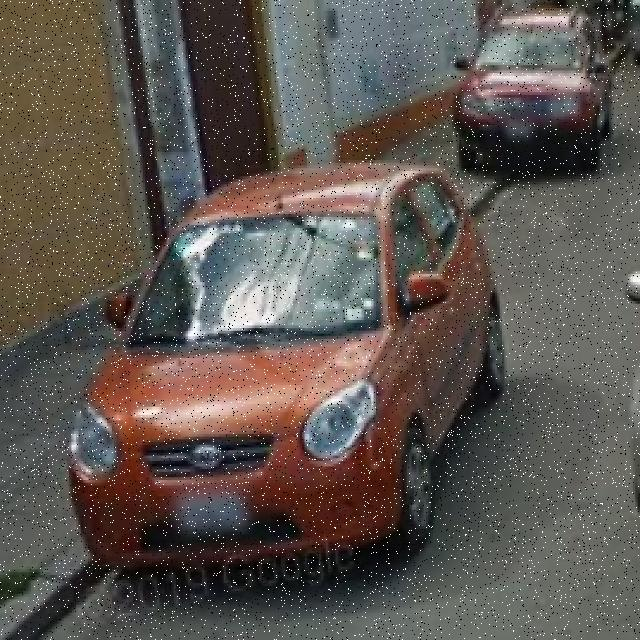cars: (60, 132, 516, 600)
